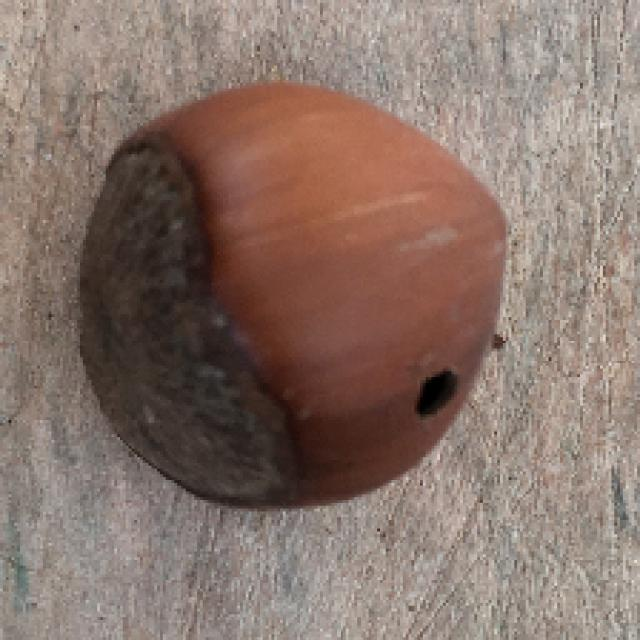DamagedHazelnut: (76, 76, 512, 513)
